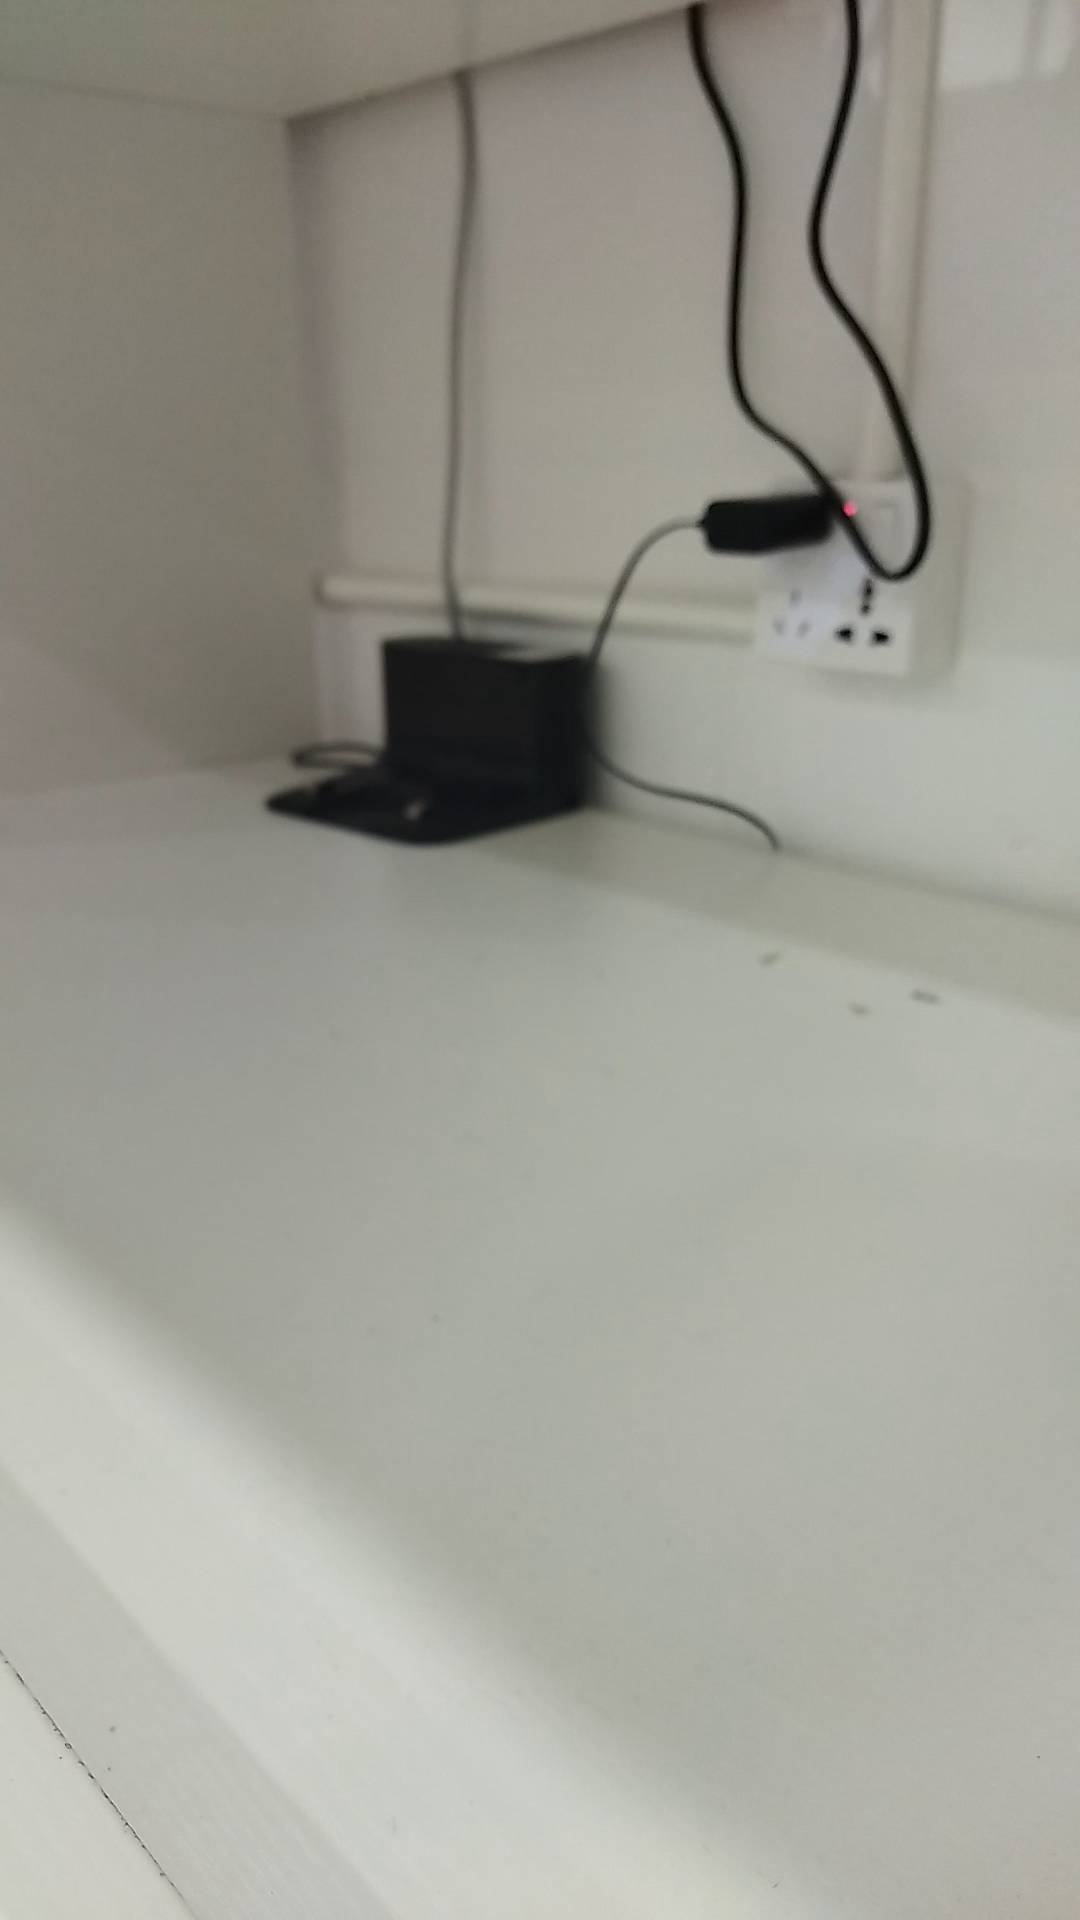recharge seat: (268, 636, 595, 845)
